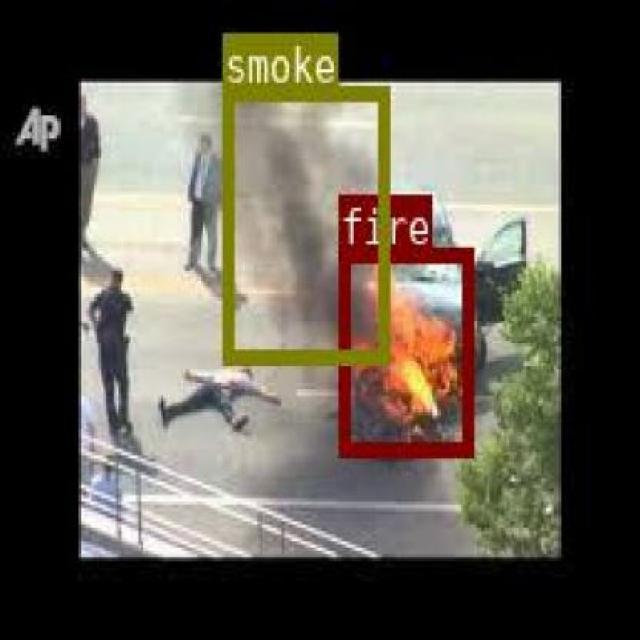Fire: (338, 247, 470, 453)
Smoke: (220, 84, 386, 361)
